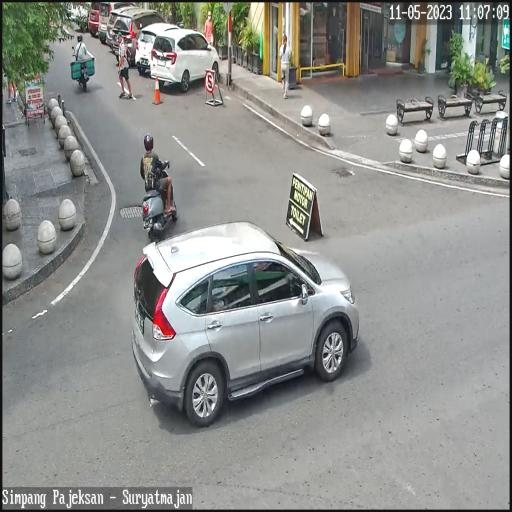mobil: (124, 220, 363, 428), (152, 28, 218, 90), (112, 10, 168, 62), (136, 18, 178, 79)
motor: (135, 152, 178, 238)
